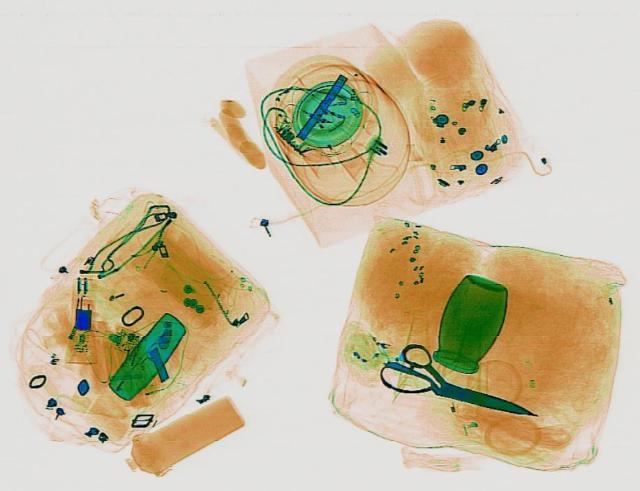Scissors: (369, 337, 551, 435)
